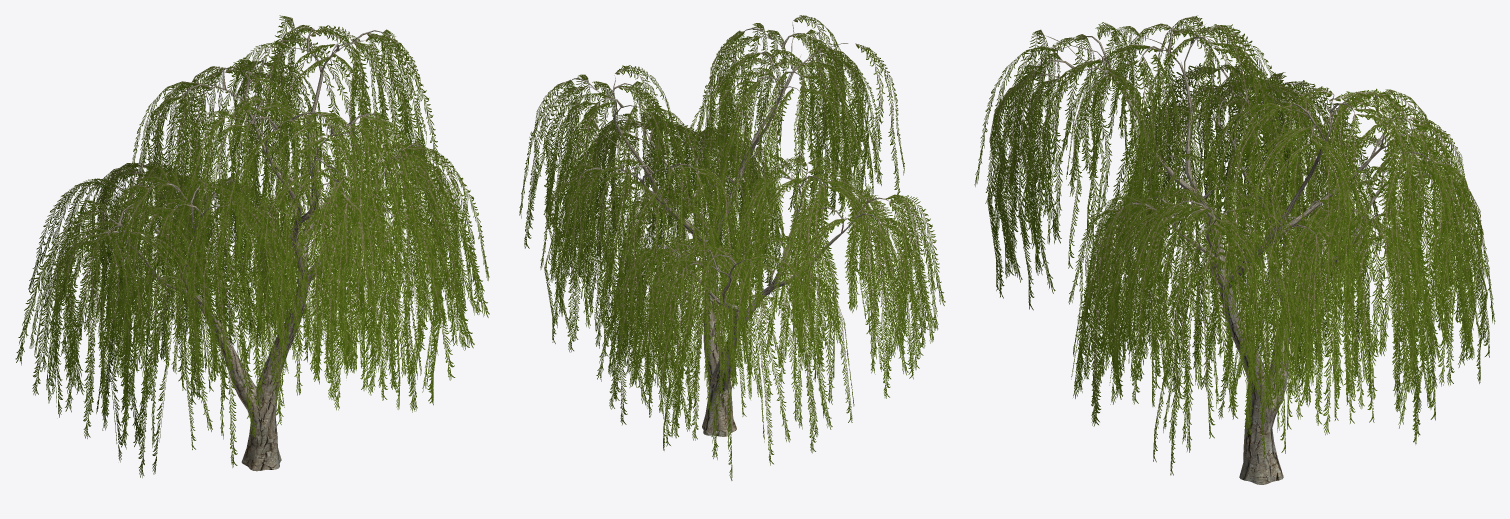
Rendered from saule-1.glb.
3 renders of one model, left to right at view 1: azimuth 30°, elevation 25°; view 2: azimuth 150°, elevation 25°; view 3: azimuth 270°, elevation 25°, orthographic. The views are drawn at different scales.
Visible parts, largest first — view 1: willow branch_1, bark10_0; view 2: willow branch_1, bark10_0; view 3: willow branch_1, bark10_0.
Part boxes in pixels (x1,y1,x2,y2): willow branch_1: (15, 15, 489, 477); bark10_0: (97, 28, 420, 471); willow branch_1: (519, 15, 945, 480); bark10_0: (572, 22, 888, 436); willow branch_1: (974, 15, 1495, 475); bark10_0: (1030, 24, 1432, 484).
Size of the model in its own units: 8.3 by 7.73 by 8.1.
Materials: 2 (2 with a texture image).
